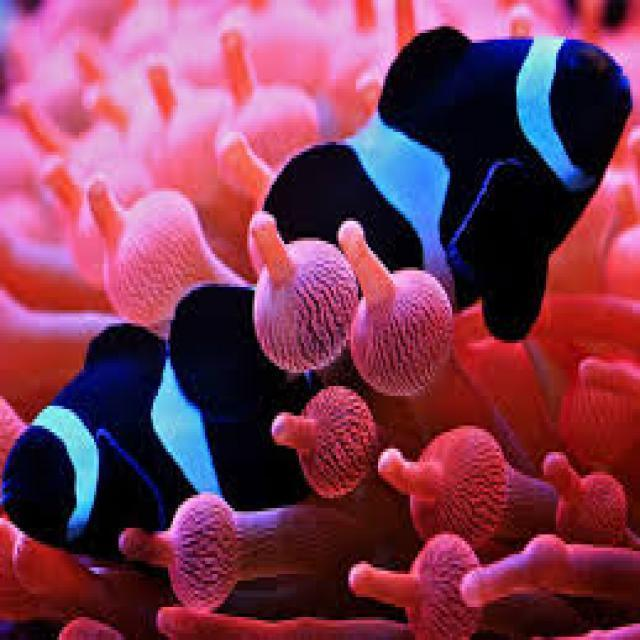ClownFish: (254, 25, 634, 342), (5, 285, 332, 549)
